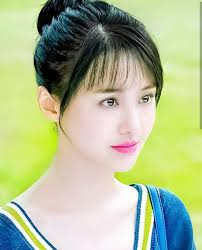person: (33, 1, 164, 176)
